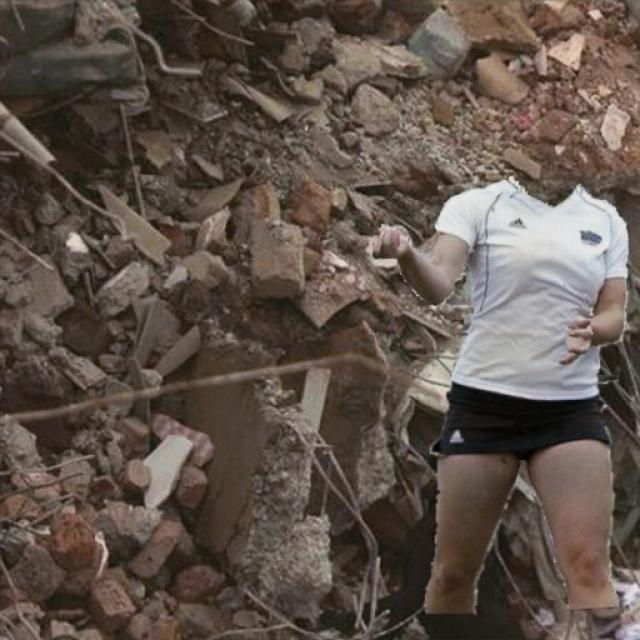Person in Rubble: (372, 177, 628, 612)
